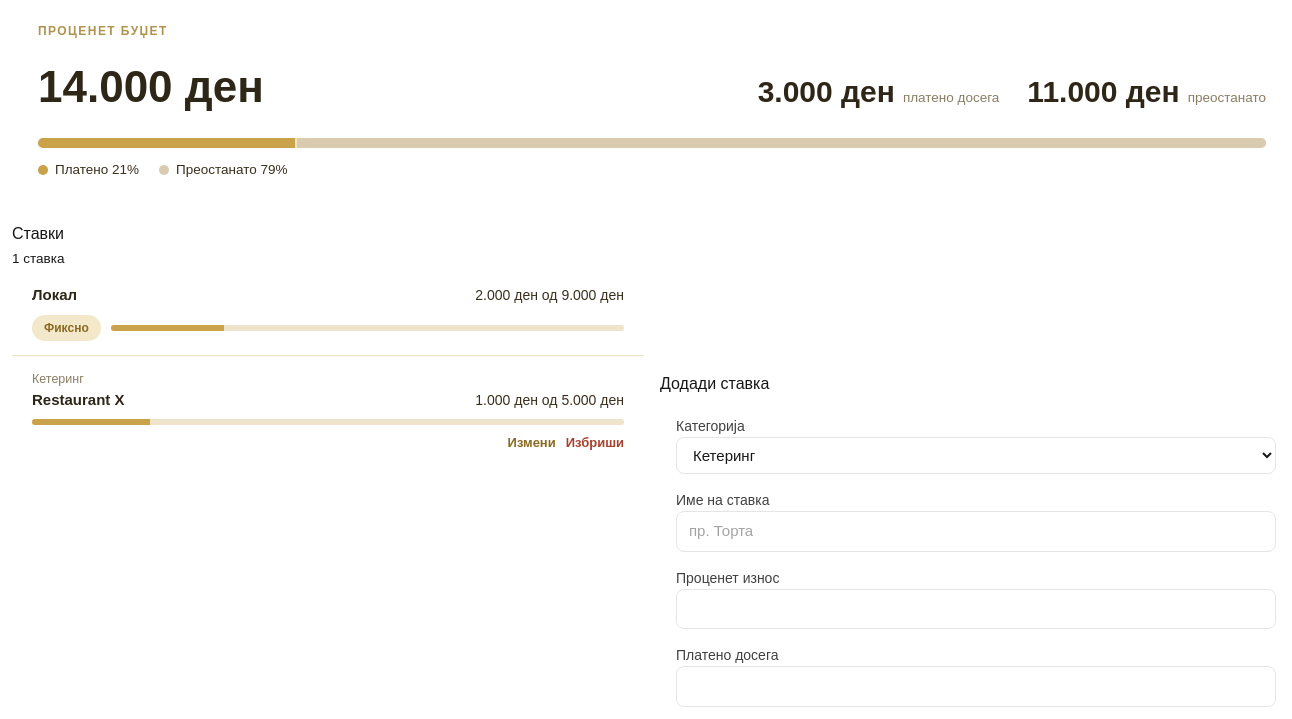
Test: BudgetClient › edits an existing item
The width and height of the screenshot is (1292, 719).
Click the button with aria-label "измени restaurant x" at (532, 443), box [508,433,556,452]
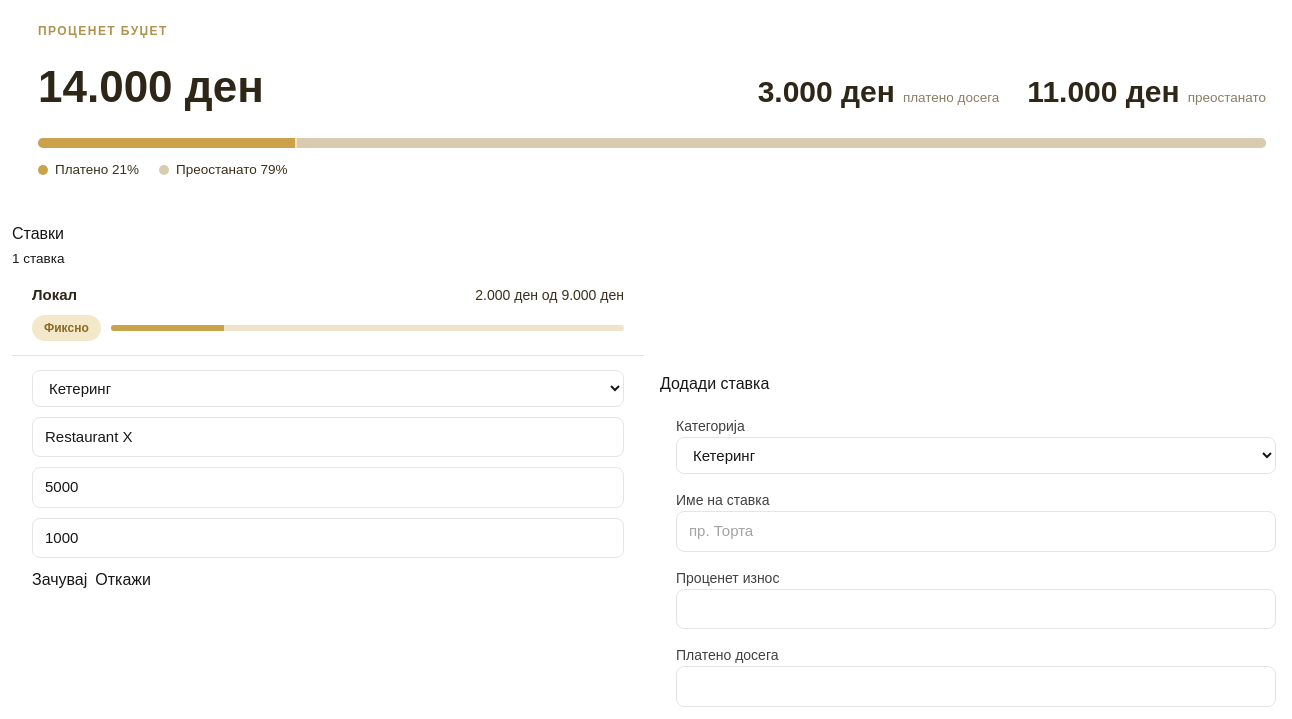
Replace the text in the field showing "Restaurant X" with "Restaurant X (confirmed)" at (328, 437), box [32,417,624,457]
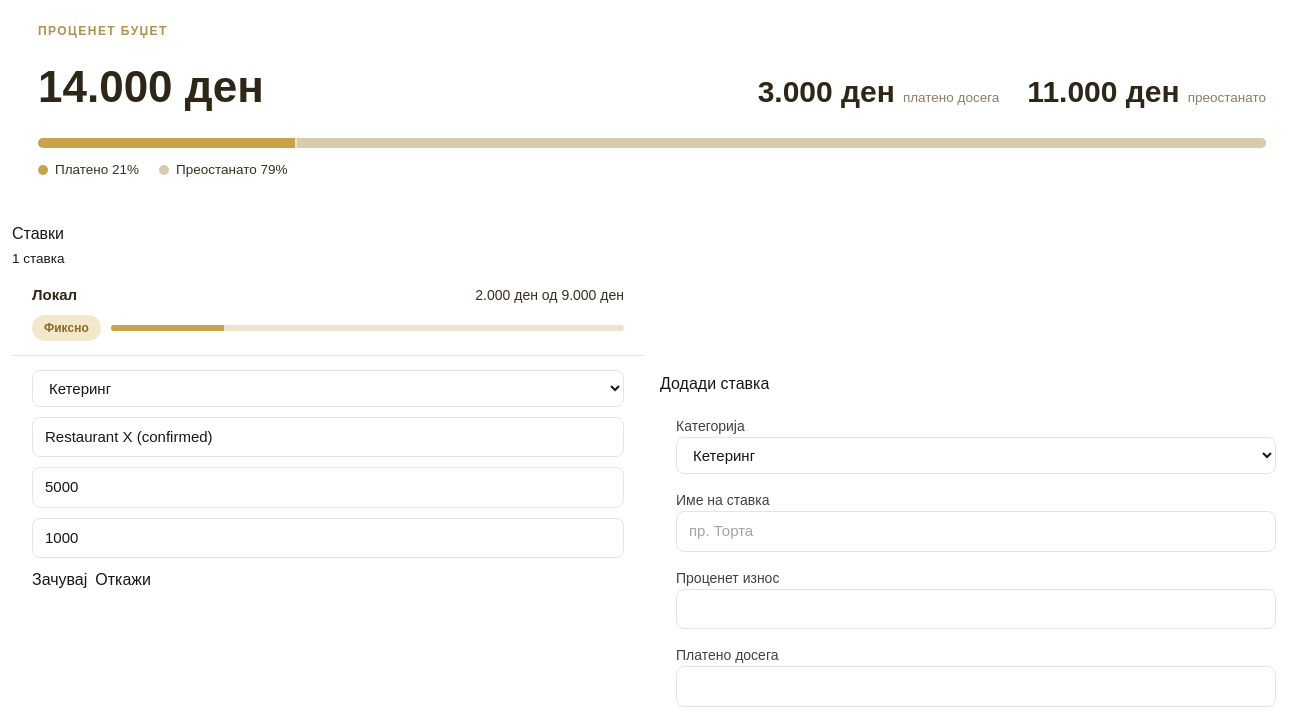
Click the button "Зачувај" at (60, 580), box [32,568,87,592]
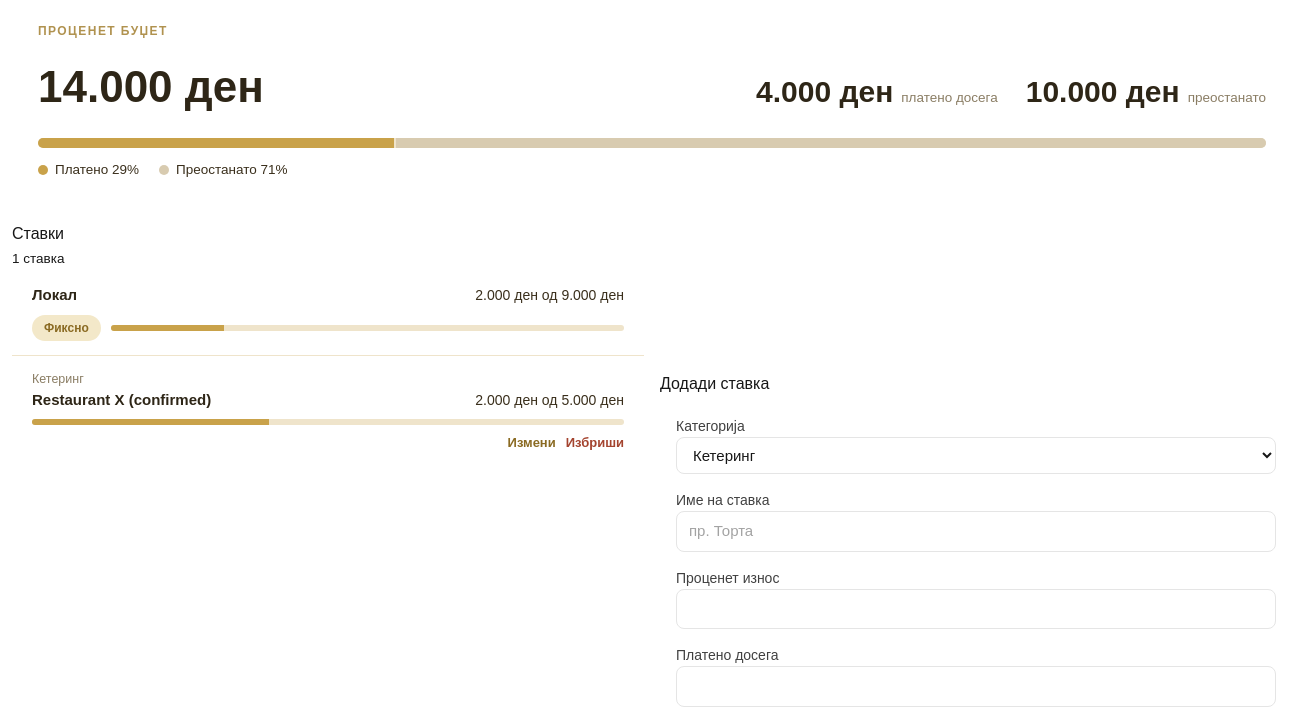
Result: the text "Restaurant X (confirmed)" is shown at [32,388,211,411]
